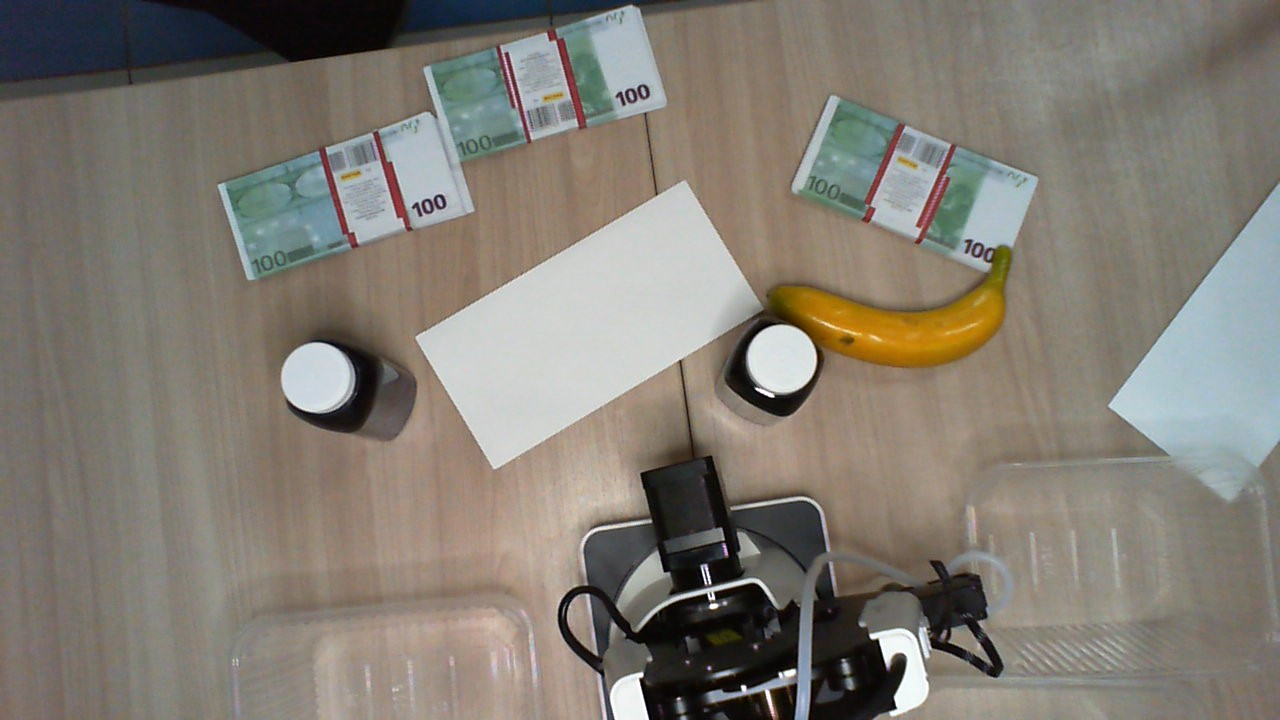banana: (768, 246, 1017, 367)
bottle: (724, 318, 820, 424), (282, 341, 375, 430)
convert: (416, 179, 767, 470), (1112, 183, 1280, 500)
money: (215, 110, 474, 283), (791, 95, 1036, 277), (426, 1, 673, 165)
